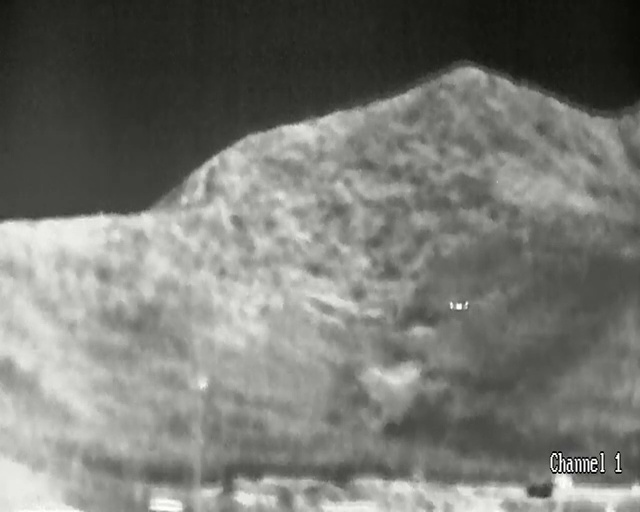uav: (449, 301, 467, 309)
